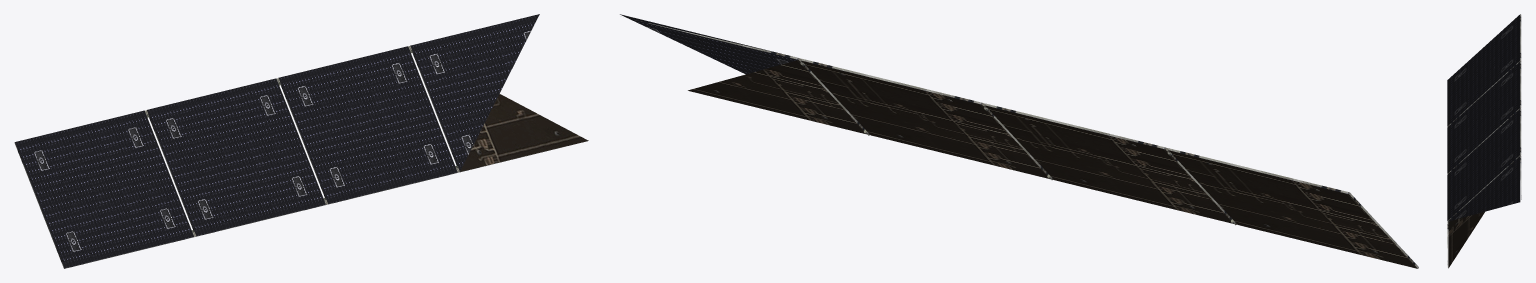
The model's file is swot-solar-left.obj.
3 views of the same model, side by side, from view 1: azimuth 30°, elevation 25°; view 2: azimuth 150°, elevation 25°; view 3: azimuth 270°, elevation 25° (orthographic). The views are drawn at different scales.
Size of the model in its own units: 7.05 by 1.17 by 1.17.
Materials: 2 (2 with a texture image).
